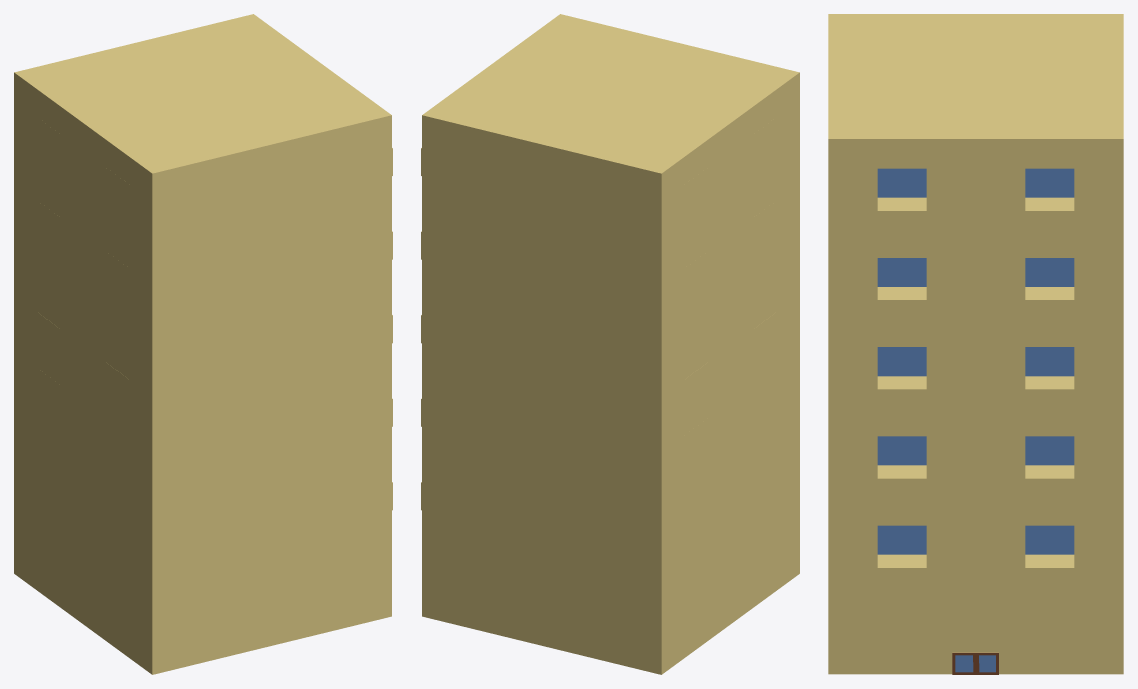
File: predio4.fbx
The picture shows the model from 3 angles, left to right: view 1: azimuth 30°, elevation 25°; view 2: azimuth 150°, elevation 25°; view 3: azimuth 270°, elevation 25°; orthographic projection. The views are drawn at different scales.
Visible parts, largest first — view 1: Cube; view 2: Cube; view 3: Cube.
Part boxes in pixels (box(x1,y1,x2,y2)): Cube: box(14, 14, 392, 674); Cube: box(421, 14, 799, 674); Cube: box(828, 14, 1123, 674).
Size of the model in its own units: 220 by 400 by 200.
